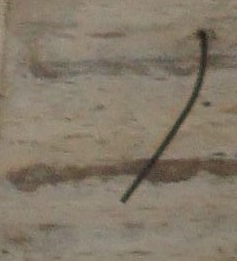Exposed reinforcement: (120, 29, 209, 204)
